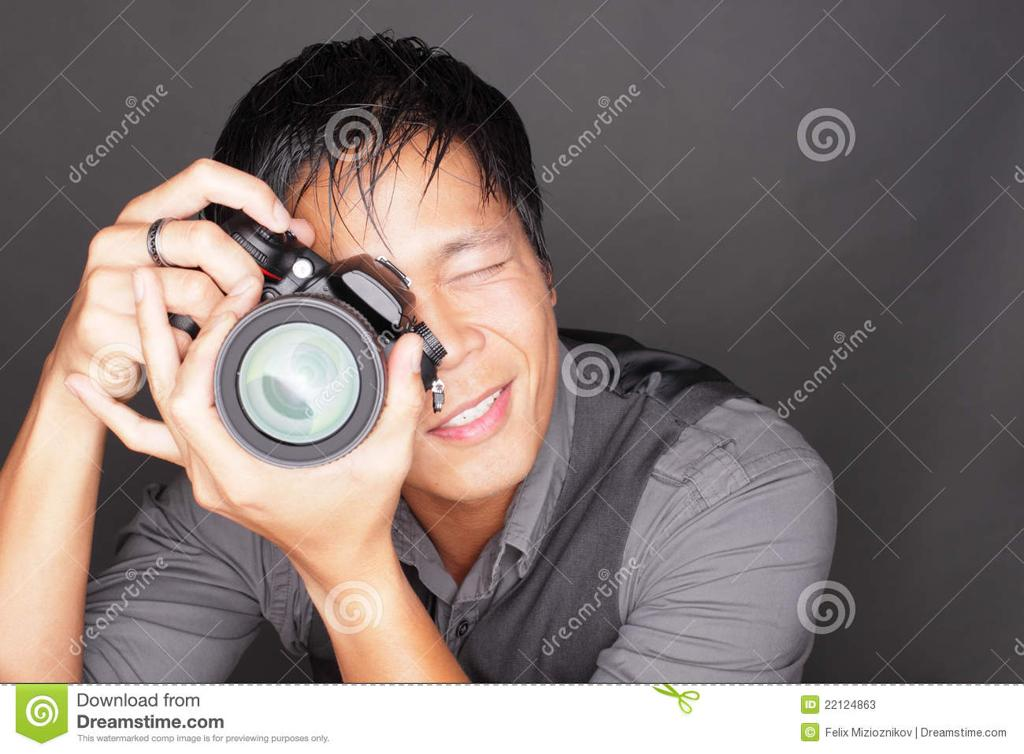face: (298, 166, 540, 502)
